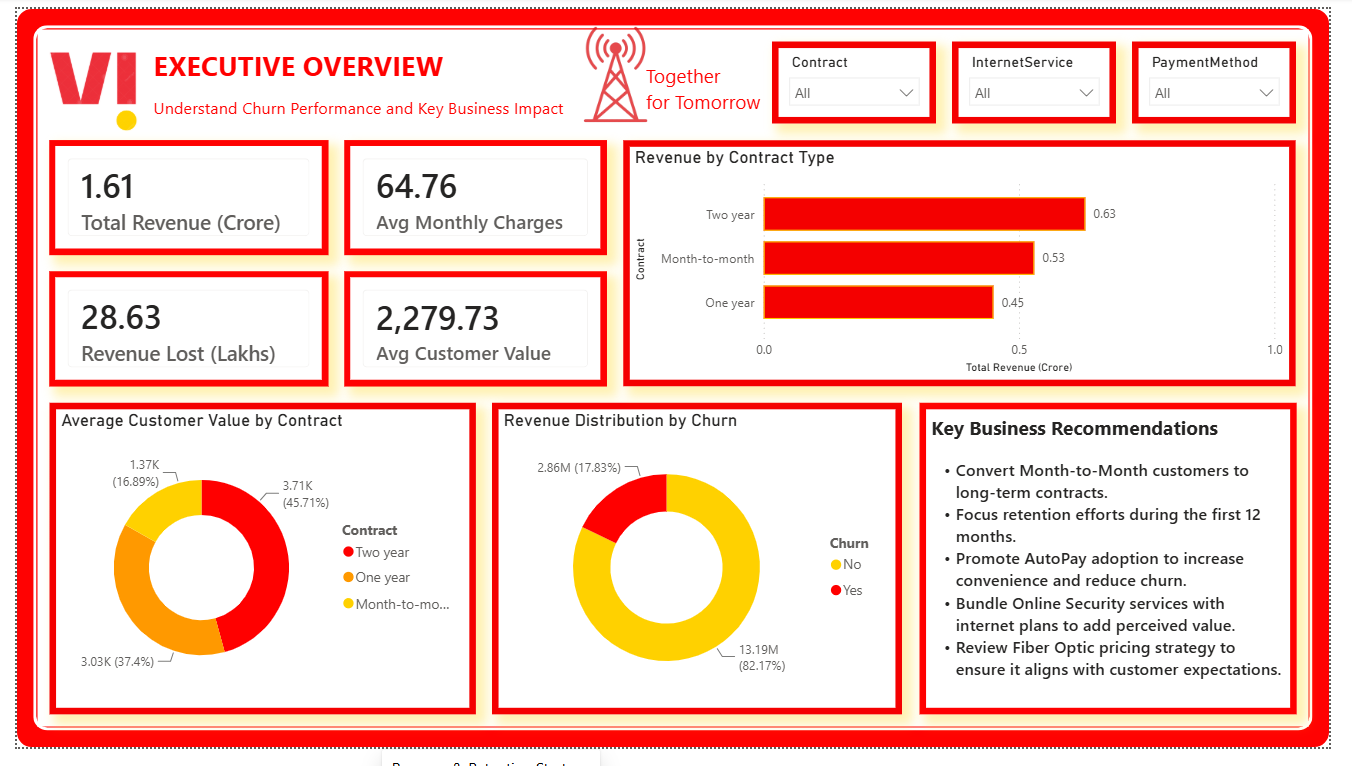

The dashboard page shown, as its layout file describes it:
{"tool":"powerbi","page":{"name":"Revenue & Retention Strategy","canvas":[1280,720],"ordinal":2},"visuals":[{"type":"shape","box":[0,0,1280,720],"z":0},{"type":"shape","box":[16,16,1248,688],"z":1000},{"type":"image","box":[16,16,128,128],"z":2000},{"type":"textbox","box":[128,32,352,48],"z":3000},{"type":"textbox","box":[128,80,480,48],"z":4000},{"type":"textbox","box":[608,48,128,64],"z":5000},{"type":"image","box":[528,16,112,96],"z":6000},{"type":"slicer","title":"CONTRACT","fields":{"Values":["Telco_Dataset.Contract"]},"box":[736,32,160,80],"z":15000},{"type":"slicer","title":"CONTRACT","fields":{"Values":["Telco_Dataset.PaymentMethod"]},"box":[1088,32,160,80],"z":16000},{"type":"slicer","title":"CONTRACT","fields":{"Values":["Telco_Dataset.InternetService"]},"box":[912,32,160,80],"z":17000},{"type":"cardVisual","fields":{"Data":["Telco_Dataset.Total Revenue (Lakhs)"]},"box":[32,128,272,112],"z":17001},{"type":"cardVisual","fields":{"Data":["Telco_Dataset.Revenue Lost (Lakhs)"]},"box":[32,256,272,112],"z":17002},{"type":"cardVisual","fields":{"Data":["Telco_Dataset.Avg Customer Value"]},"box":[320,256,256,112],"z":17003},{"type":"cardVisual","fields":{"Data":["Telco_Dataset.Avg Monthly Charges"]},"box":[320,128,256,112],"z":17004},{"type":"donutChart","title":"Average Customer Value by Contract","fields":{"Category":["Telco_Dataset.Contract"],"Y":["Telco_Dataset.Avg Customer Value"]},"box":[32,384,416,304],"z":17005},{"type":"textbox","box":[880,384,368,304],"z":17006},{"type":"donutChart","title":"Revenue Distribution by Churn","fields":{"Category":["Telco_Dataset.Churn"],"Y":["Telco_Dataset.Total Revenue"]},"box":[464,384,400,304],"z":17007},{"type":"barChart","title":"Revenue by Contract Type","fields":{"Category":["Telco_Dataset.Contract"],"Y":["Telco_Dataset.Total Revenue (Crore)"]},"box":[592,128,656,240],"z":17008}]}

Visuals, with their boxes in screenshot pixels (x1, y1, x2, y2), scaled from the page's 1280x720 canvas onto the 1352x766 screenshot:
shape: <box>0,0,1351,765</box>
shape: <box>17,17,1335,749</box>
image: <box>17,17,152,153</box>
textbox: <box>135,34,507,85</box>
textbox: <box>135,85,642,136</box>
textbox: <box>642,51,777,119</box>
image: <box>558,17,676,119</box>
"CONTRACT" slicer: <box>777,34,946,119</box>
"CONTRACT" slicer: <box>1149,34,1318,119</box>
"CONTRACT" slicer: <box>963,34,1132,119</box>
cardVisual - Telco_Dataset.Total Revenue (Lakhs): <box>34,136,321,255</box>
cardVisual - Telco_Dataset.Revenue Lost (Lakhs): <box>34,272,321,392</box>
cardVisual - Telco_Dataset.Avg Customer Value: <box>338,272,608,392</box>
cardVisual - Telco_Dataset.Avg Monthly Charges: <box>338,136,608,255</box>
"Average Customer Value by Contract" donutChart: <box>34,409,473,732</box>
textbox: <box>929,409,1318,732</box>
"Revenue Distribution by Churn" donutChart: <box>490,409,913,732</box>
"Revenue by Contract Type" barChart: <box>625,136,1318,392</box>
